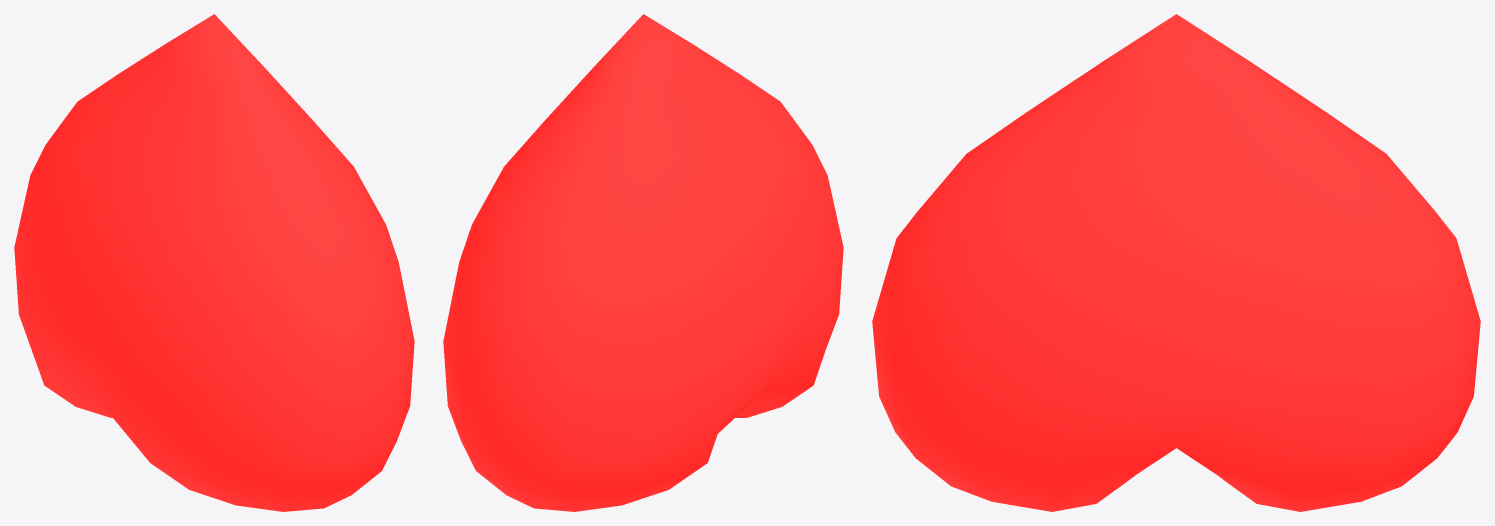
File: uploads_files_1987427_heart_by_gustavo_belemmi.glb
The picture shows the model from 3 angles, left to right: view 1: azimuth 30°, elevation 25°; view 2: azimuth 150°, elevation 25°; view 3: azimuth 270°, elevation 25°; orthographic projection. The views are drawn at different scales.
Parts seen in each view (by area): view 1: Sphere; view 2: Sphere; view 3: Sphere.
Part boxes in pixels (bbox=[...]): Sphere: bbox=[14, 14, 414, 511]; Sphere: bbox=[443, 14, 843, 511]; Sphere: bbox=[872, 14, 1480, 511].
Size of the model in its own units: 0.1809 by 0.2631 by 0.3015.
